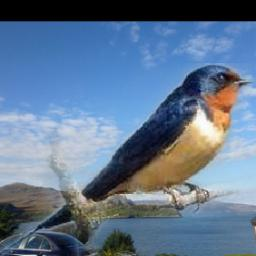Swallow: (0, 64, 253, 256)
